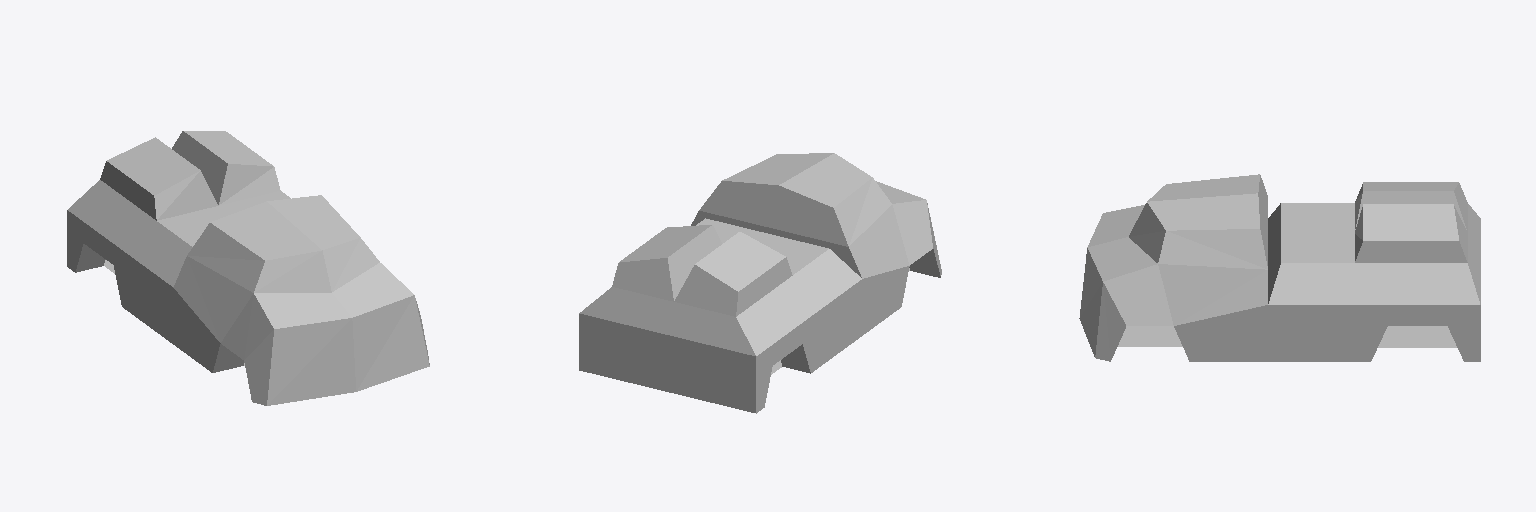
File: Truck.obj
3 views of the same model, side by side, from view 1: azimuth 30°, elevation 25°; view 2: azimuth 150°, elevation 25°; view 3: azimuth 270°, elevation 25° (orthographic).
Visible parts, largest first — view 1: default; view 2: default; view 3: default.
Part boxes in pixels (bbox=[...]): default: bbox=[67, 131, 429, 405]; default: bbox=[579, 153, 941, 413]; default: bbox=[1079, 174, 1480, 361].
Bounding box in the file's own units: 3.74 × 2.53 × 7.34.